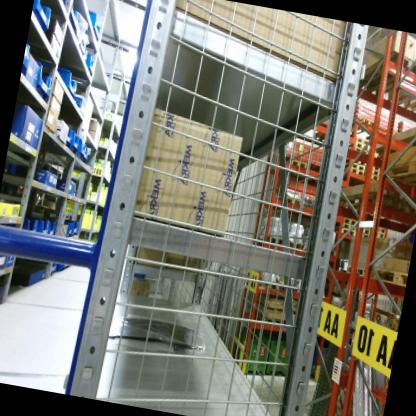pallet: (353, 47, 416, 109), (366, 260, 408, 290), (396, 58, 416, 118), (384, 153, 416, 186), (346, 111, 382, 137), (268, 188, 304, 213), (343, 260, 377, 286), (251, 231, 288, 250), (286, 156, 311, 172), (336, 166, 366, 179), (348, 133, 372, 149), (341, 160, 367, 174), (346, 144, 371, 158), (316, 243, 338, 257), (346, 140, 371, 152), (344, 154, 368, 166), (332, 227, 357, 238), (336, 215, 360, 226), (335, 222, 359, 233), (260, 279, 280, 292), (285, 239, 304, 252), (371, 154, 384, 173), (368, 174, 385, 188), (279, 282, 298, 294), (369, 231, 385, 242), (373, 224, 390, 233), (358, 230, 372, 240), (360, 225, 371, 235), (369, 168, 382, 176)
